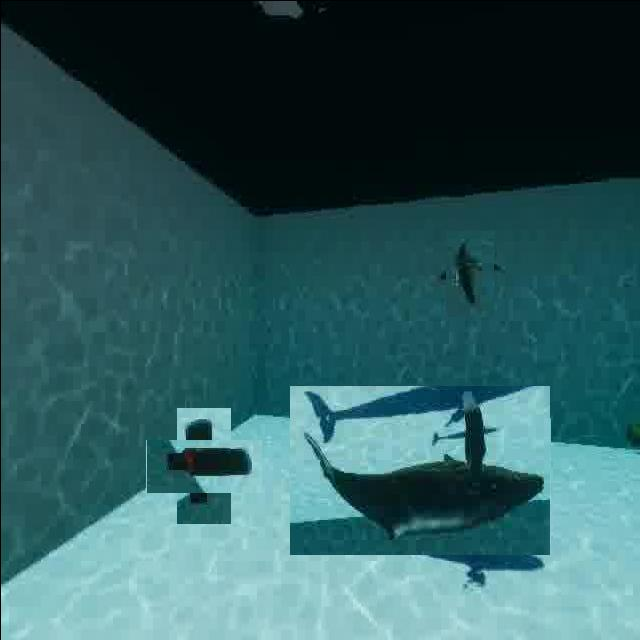Cylinder: (160, 423, 246, 508)
Whale: (289, 384, 550, 554), (435, 240, 503, 308)
